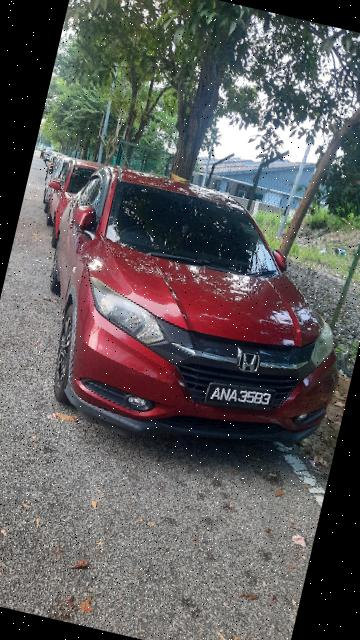License_Plate: (205, 374, 283, 422)
car: (11, 148, 360, 490)
